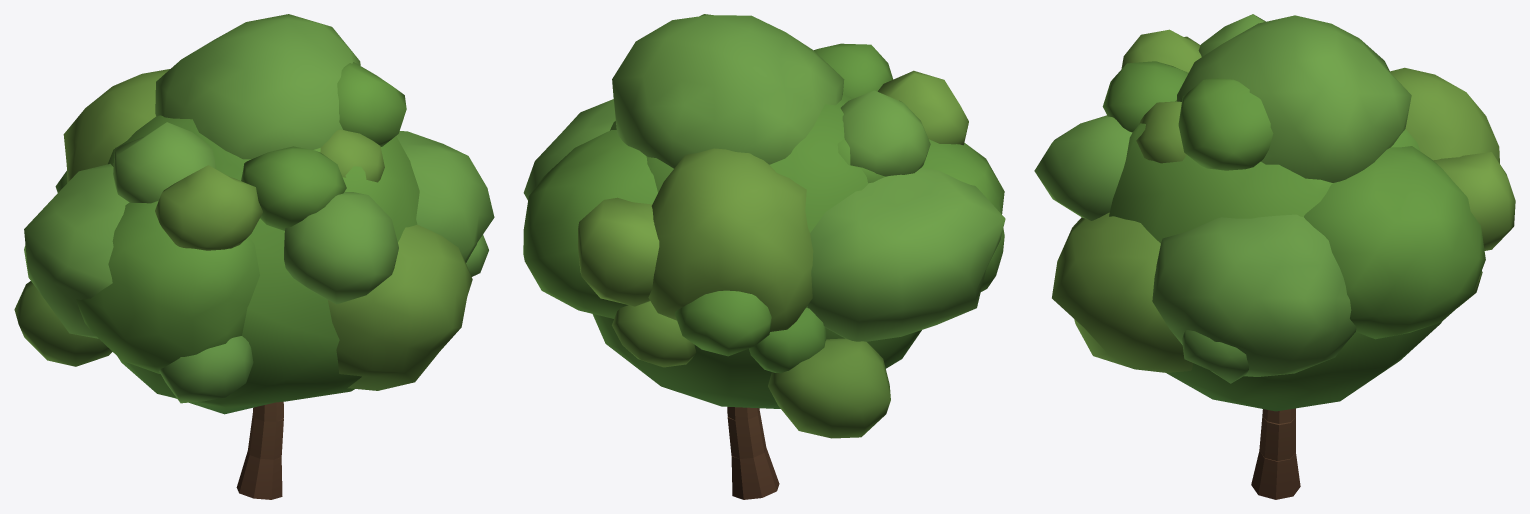
Rendered from oak-1.glb.
3 views of the same model, side by side, from view 1: azimuth 30°, elevation 25°; view 2: azimuth 150°, elevation 25°; view 3: azimuth 270°, elevation 25° (orthographic). The views are drawn at different scales.
Visible parts, largest first — view 1: leaf, bark; view 2: leaf, bark; view 3: leaf, bark.
Part boxes in pixels (<box>): leaf: <box>14,14,494,414</box>; bark: <box>236,401,283,499</box>; leaf: <box>523,14,1005,438</box>; bark: <box>727,407,779,499</box>; leaf: <box>1034,14,1515,411</box>; bark: <box>1251,408,1300,499</box>.
Bounding box in the file's own units: 6.23 × 6.38 × 5.83.
